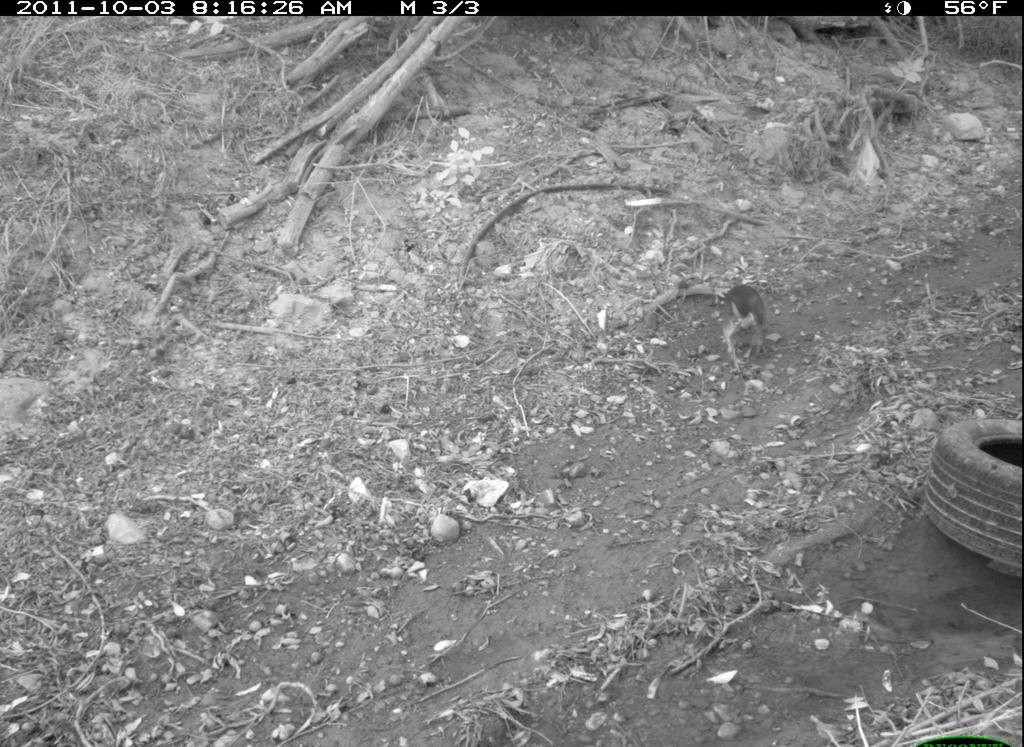dog: (666, 271, 781, 368)
